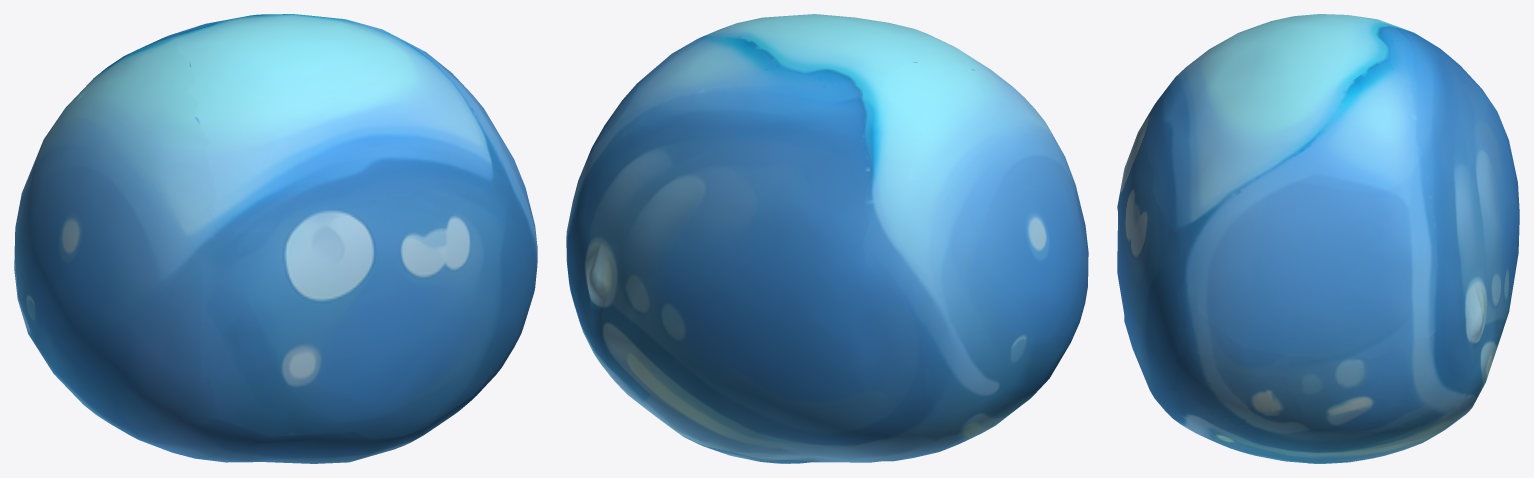
The model's file is WaterDroplet.glb.
The picture shows the model from 3 angles, left to right: view 1: azimuth 30°, elevation 25°; view 2: azimuth 150°, elevation 25°; view 3: azimuth 270°, elevation 25°; orthographic projection. The views are drawn at different scales.
Size of the model in its own units: 1.99 by 1.72 by 1.64.
1 material, 1 textured.
